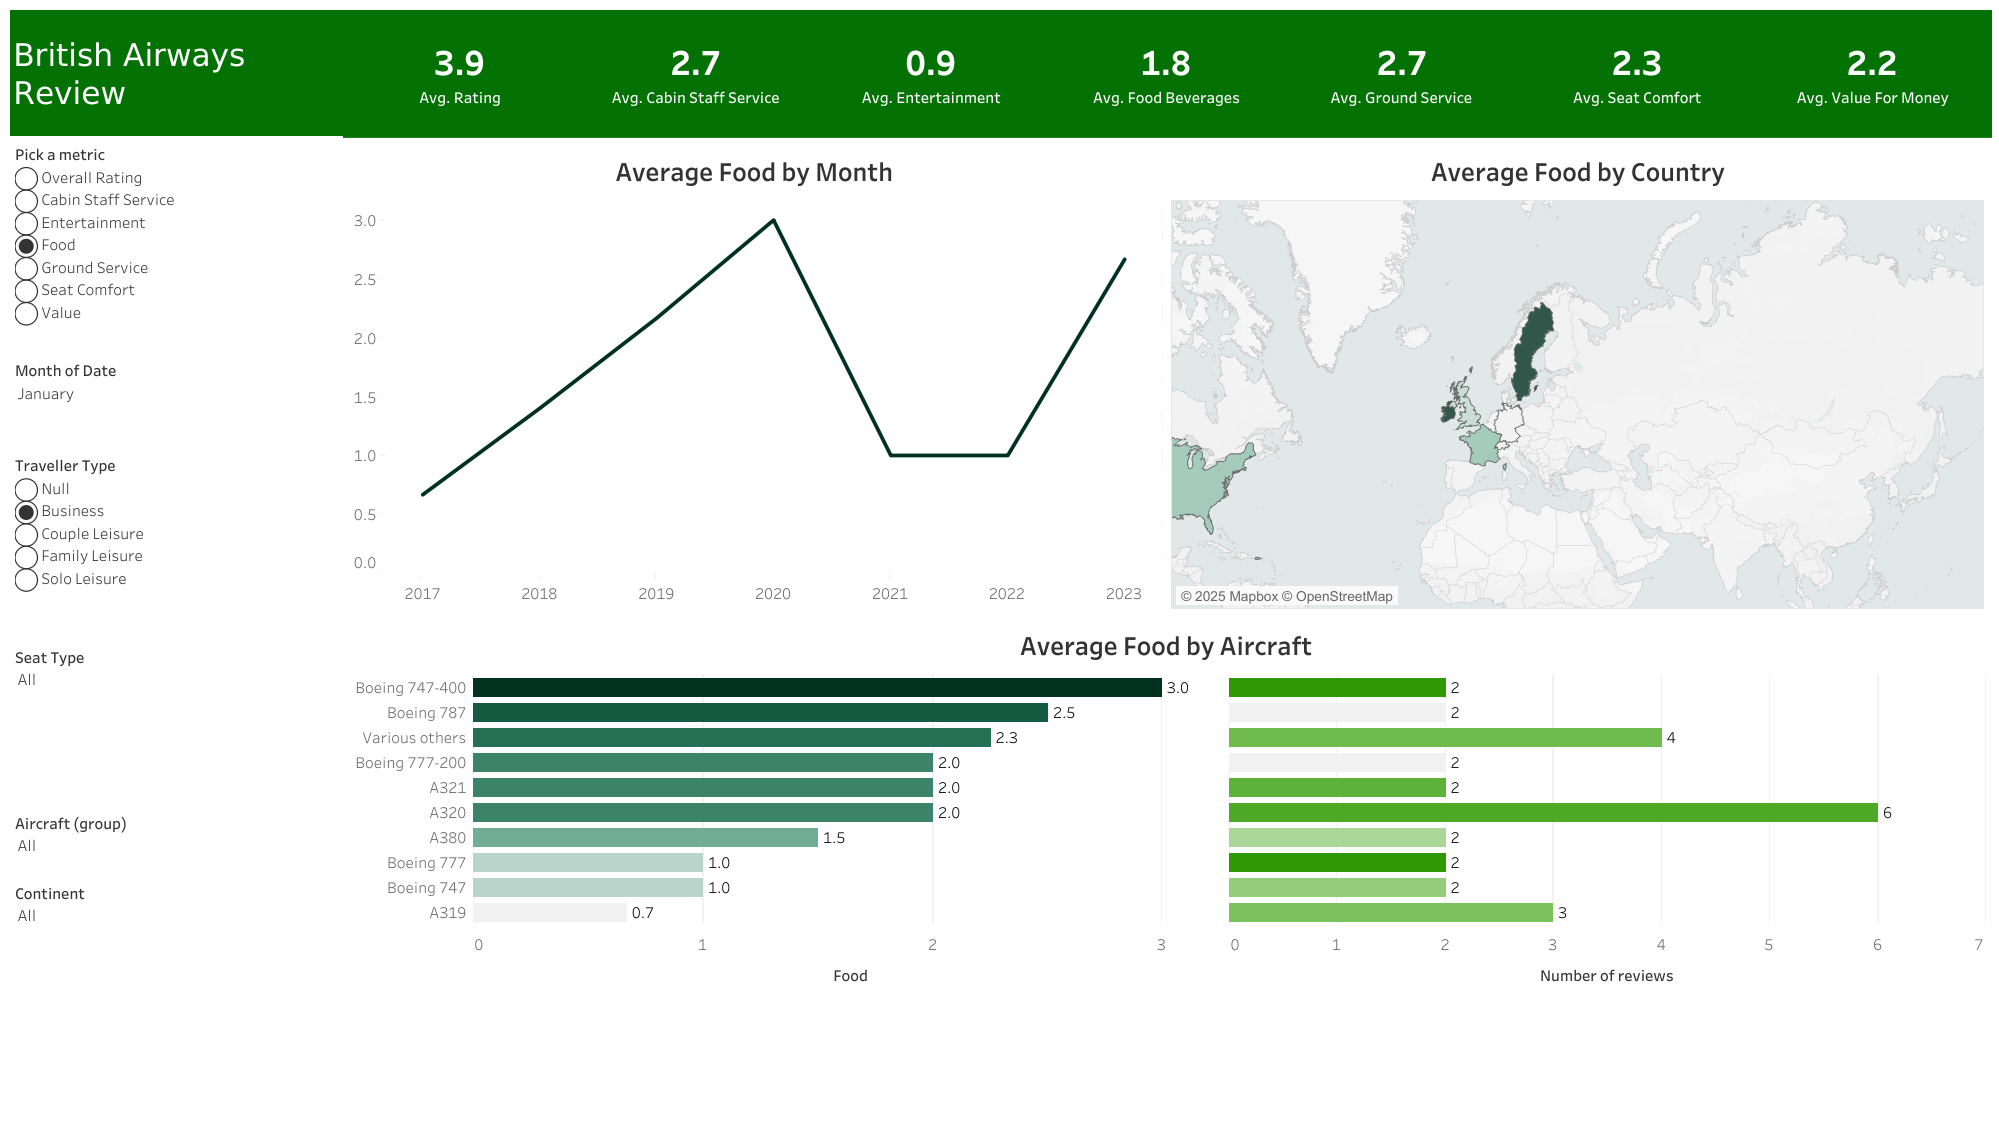

This screenshot's page, from the dashboard's own definition file:
{"tool":"tableau","page":{"name":"British Airways Review","canvas":[1600,900],"ordinal":0},"visuals":[{"type":"text","box":[8,8,265.8,101]},{"type":"worksheet","title":"Summary","mark":"Automatic","box":[273.8,8,1318.2,101]},{"type":"parameter","param":"[Parameters].[Parameter 1]","box":[8,109,265.8,197]},{"type":"worksheet","title":"Average by Month ","mark":"Automatic","rows":["Calculation_617556125583880192"],"cols":["date"],"box":[273.8,113,659.1,378.6]},{"type":"worksheet","title":"Average by Country ","mark":"Multipolygon","box":[932.9,113,659.1,378.6]},{"type":"filter","title":"Average by Country ","param":"[federated.05t5tda1l4wod019vfw761hfy3gk].[mn:date:ok]","box":[8,306,265.8,89]},{"type":"filter","title":"Average by Country ","param":"[federated.05t5tda1l4wod019vfw761hfy3gk].[none:traveller_type:nk]","box":[8,395,265.8,174]},{"type":"worksheet","title":"Average by Aircraft","mark":"Automatic","cols":["Calculation_617556125583880192","ba_reviews.csv_B4387C4B263F4649893723F2D5D62BFB"],"box":[273.8,491.6,1318.2,364.4]},{"type":"filter","title":"Average by Country ","param":"[federated.05t5tda1l4wod019vfw761hfy3gk].[none:seat_type:nk]","box":[8,569,265.8,151]},{"type":"filter","title":"Average by Country ","param":"[federated.05t5tda1l4wod019vfw761hfy3gk].[Aircraft (group)]","box":[8,720,265.8,61]},{"type":"filter","title":"Average by Country ","param":"[federated.05t5tda1l4wod019vfw761hfy3gk].[none:Continent:nk]","box":[8,781,265.8,61]},{"type":"text","box":[8,856,792,36]}]}

Visuals, with their boxes in screenshot pixels (x1, y1, x2, y2), scaled from the page's 1600x900 canvas onto the 1999x1124 screenshot:
text: left=10, top=10, right=342, bottom=136
"Summary" worksheet: left=342, top=10, right=1989, bottom=136
parameter: left=10, top=136, right=342, bottom=382
"Average by Month " worksheet: left=342, top=141, right=1166, bottom=614
"Average by Country " worksheet (Multipolygon marks): left=1166, top=141, right=1989, bottom=614
"Average by Country " filter: left=10, top=382, right=342, bottom=493
"Average by Country " filter: left=10, top=493, right=342, bottom=711
"Average by Aircraft" worksheet: left=342, top=614, right=1989, bottom=1069
"Average by Country " filter: left=10, top=711, right=342, bottom=899
"Average by Country " filter: left=10, top=899, right=342, bottom=975
"Average by Country " filter: left=10, top=975, right=342, bottom=1052
text: left=10, top=1069, right=999, bottom=1114
